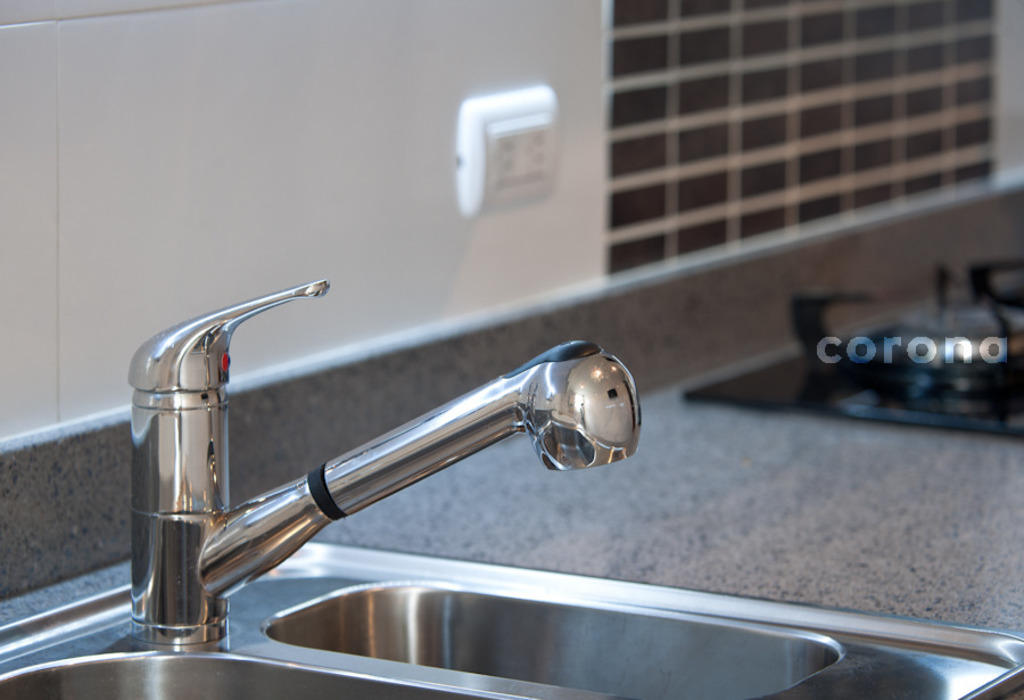tap: (127, 277, 642, 649)
